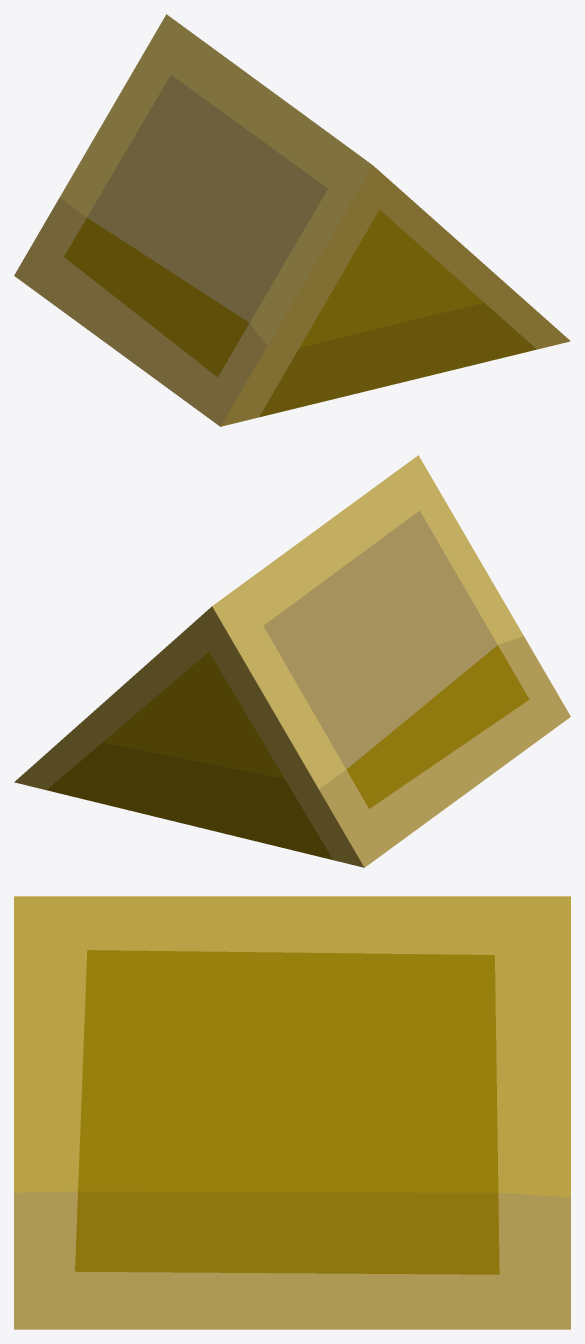
Rendered from Maze_Archway_GoldA (Top1).glb.
The picture shows the model from 3 angles, top to bottom: view 1: azimuth 30°, elevation 25°; view 2: azimuth 150°, elevation 25°; view 3: azimuth 270°, elevation 25°; orthographic projection. The views are drawn at different scales.
Visible parts, largest first — view 1: Maze_Archway_GoldA (Top1); view 2: Maze_Archway_GoldA (Top1); view 3: Maze_Archway_GoldA (Top1).
Boxes of the visible parts, bbox=[...] form: Maze_Archway_GoldA (Top1): bbox=[14, 14, 570, 426]; Maze_Archway_GoldA (Top1): bbox=[14, 455, 570, 867]; Maze_Archway_GoldA (Top1): bbox=[14, 896, 570, 1329].
Bounding box in the file's own units: 0.3347 × 0.2047 × 0.3413.
